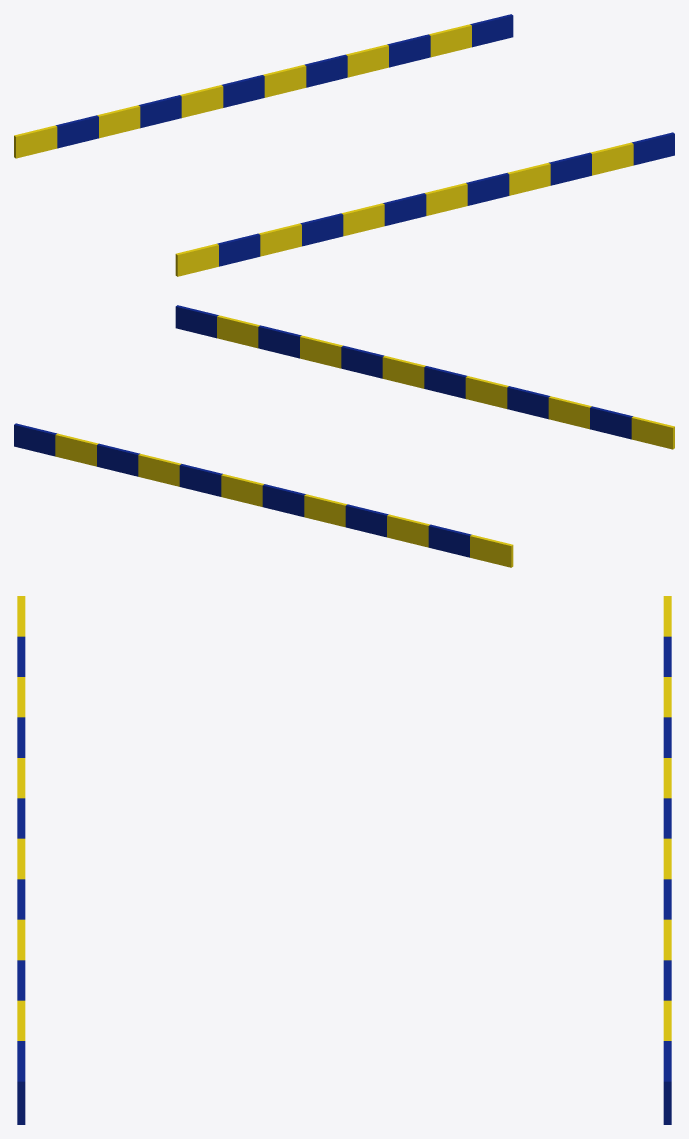
The model's file is rescue_truck_marking.glb.
3 renders of one model, top to bottom at view 1: azimuth 30°, elevation 25°; view 2: azimuth 150°, elevation 25°; view 3: azimuth 270°, elevation 25°, orthographic. The views are drawn at different scales.
Parts seen in each view (by area): view 1: body:compound; view 2: body:compound; view 3: body:compound.
Boxes of the visible parts, <box> form: body:compound: <box>14,14,674,276</box>; body:compound: <box>14,305,674,567</box>; body:compound: <box>17,596,671,1124</box>.
Bounding box in the file's own units: 4.5 × 0.1875 × 2.56.
